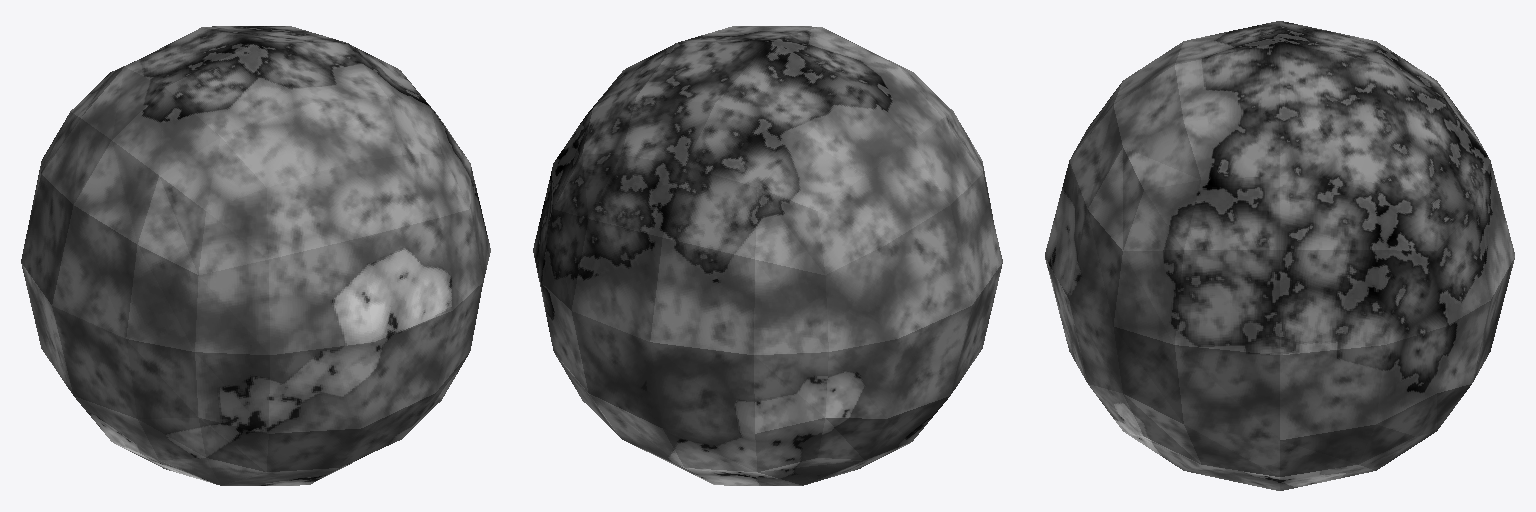
3 renders of one model, left to right at view 1: azimuth 30°, elevation 25°; view 2: azimuth 150°, elevation 25°; view 3: azimuth 270°, elevation 25°, orthographic.
Visible parts, largest first — view 1: Cube; view 2: Cube; view 3: Cube.
Boxes of the visible parts, box(x1,y1,x2,y2) form: Cube: box(21, 26, 490, 485); Cube: box(533, 26, 1002, 485); Cube: box(1045, 21, 1514, 490).
Bounding box in the file's own units: 1.19 × 1.19 × 1.19.
Materials: 1 (1 with a texture image).